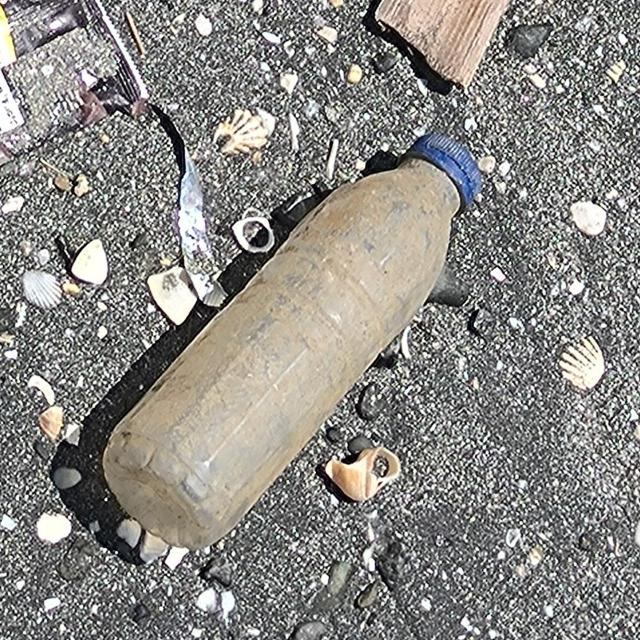plastic_waste: (103, 134, 485, 553), (1, 1, 151, 169)
